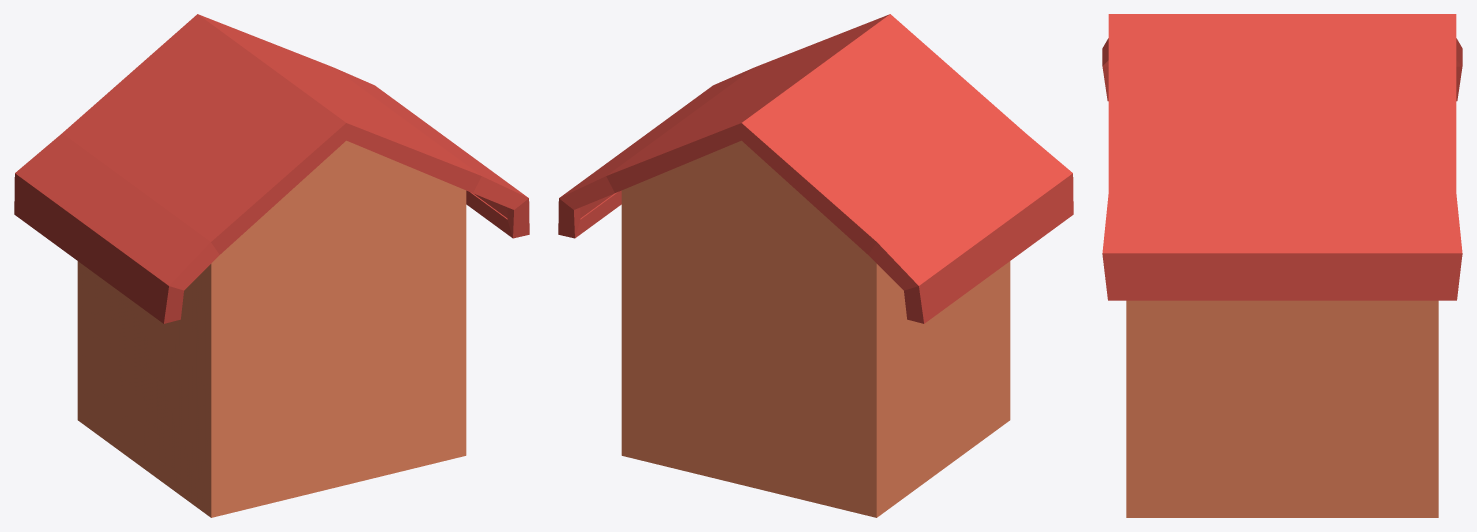
Rendered from House_2.glb.
The picture shows the model from 3 angles, left to right: view 1: azimuth 30°, elevation 25°; view 2: azimuth 150°, elevation 25°; view 3: azimuth 270°, elevation 25°; orthographic projection. The views are drawn at different scales.
Parts seen in each view (by area): view 1: House_2; view 2: House_2; view 3: House_2.
Boxes of the visible parts, <box> form: House_2: <box>14,14,529,517</box>; House_2: <box>558,14,1073,517</box>; House_2: <box>1102,14,1462,517</box>.
Size of what is drawn, in the model's own units: 2.01 by 1.94 by 1.46.
Materials: 1 (1 with a texture image).
